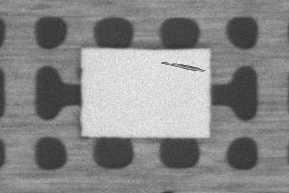DIE_INK: (238, 39, 289, 49)
